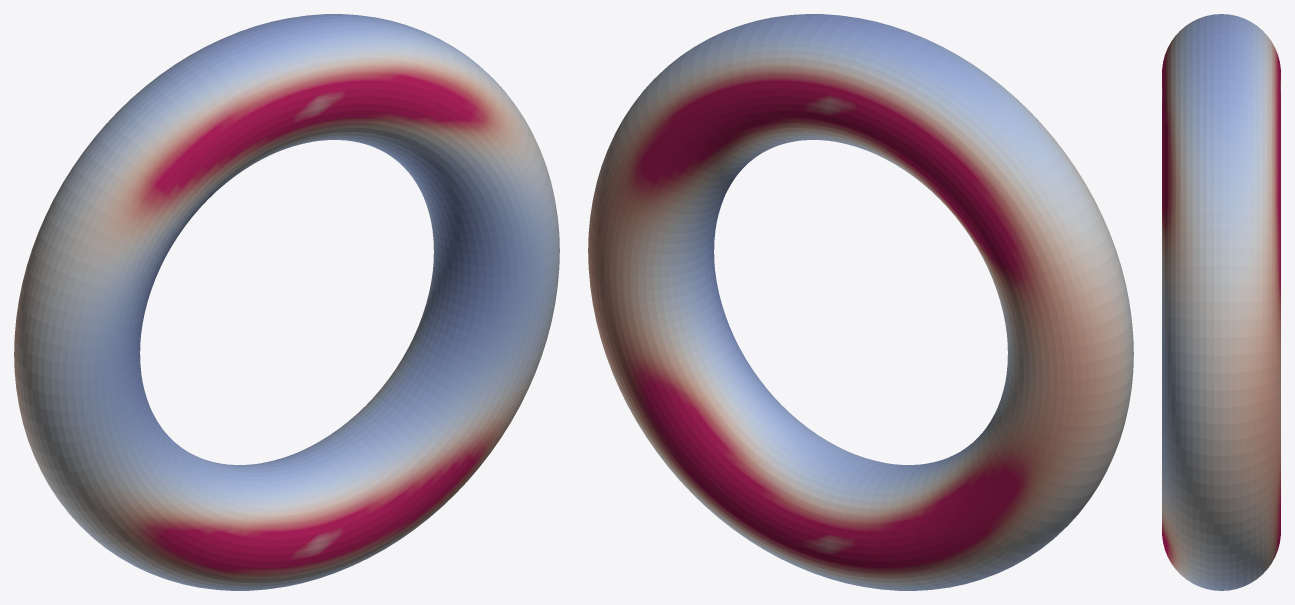
The picture shows the model from 3 angles, left to right: view 1: azimuth 30°, elevation 25°; view 2: azimuth 150°, elevation 25°; view 3: azimuth 270°, elevation 25°; orthographic projection. The views are drawn at different scales.
Parts seen in each view (by area): view 1: world; view 2: world; view 3: world.
Part boxes in pixels (bbox=[...]): world: bbox=[14, 14, 559, 590]; world: bbox=[588, 14, 1133, 590]; world: bbox=[1162, 14, 1280, 590].
Bounding box in the file's own units: 25.2 × 25.2 × 5.19.
